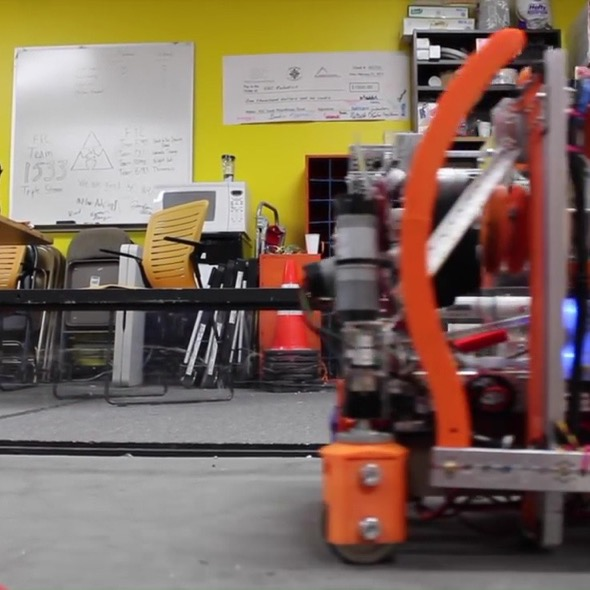robot: (311, 12, 590, 572)
